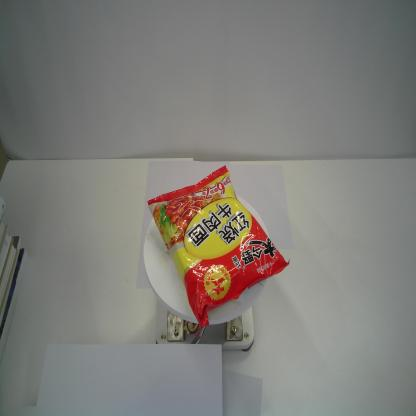Instant Noodles: (146, 165, 292, 328)
